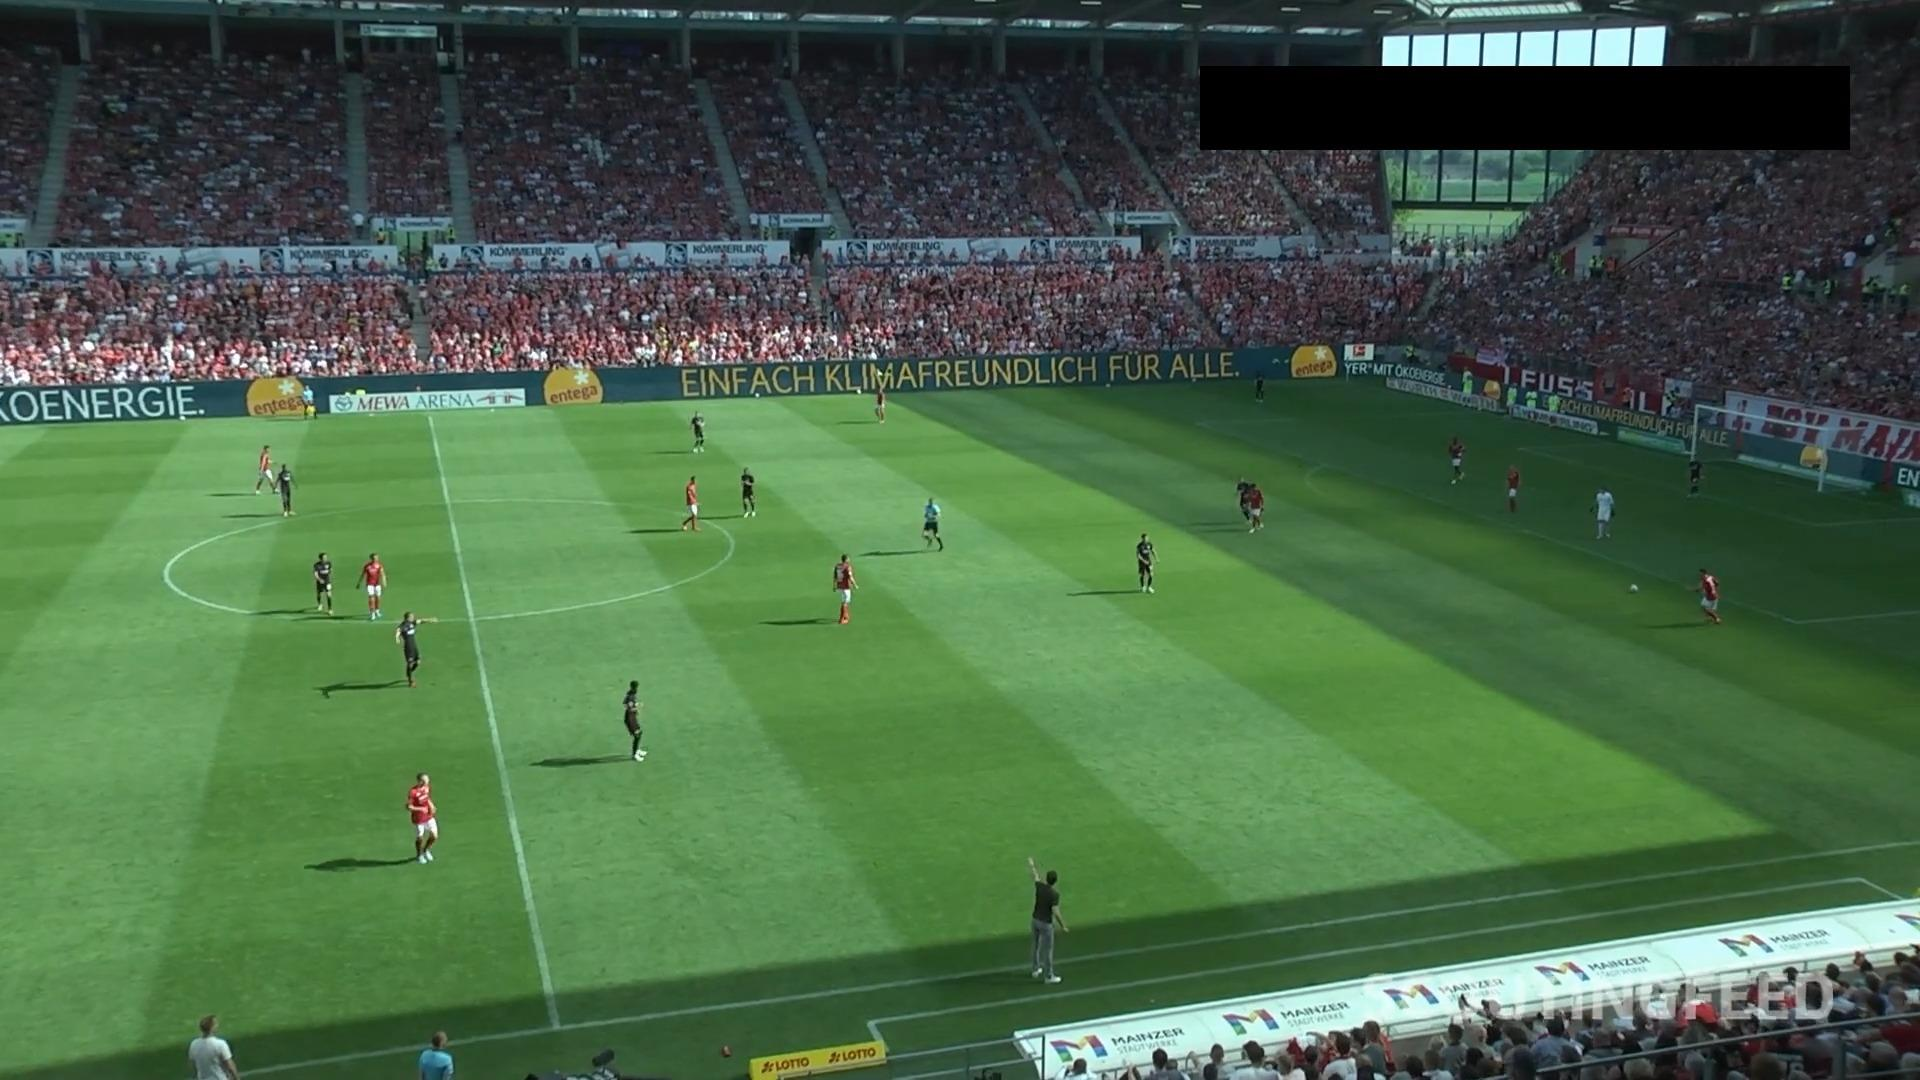ball: (1629, 583, 1639, 593)
